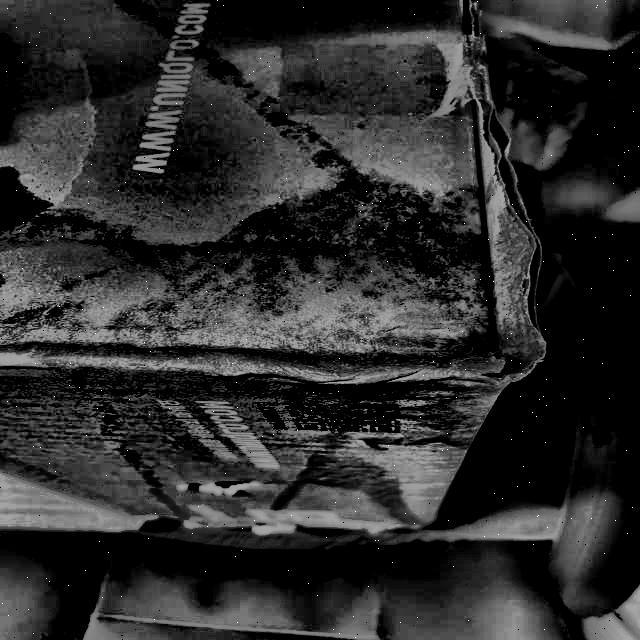box: (0, 0, 562, 548)
wet: (228, 189, 530, 367)
